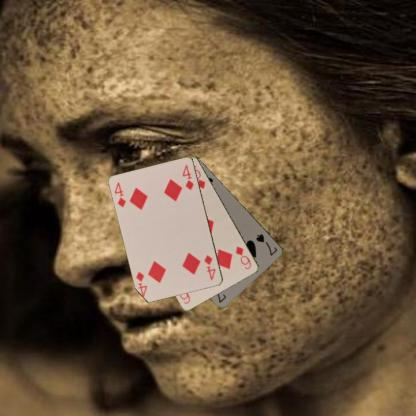4d: (112, 180, 128, 209), (202, 252, 217, 282)
6d: (234, 244, 252, 271)
7s: (254, 231, 278, 257)
